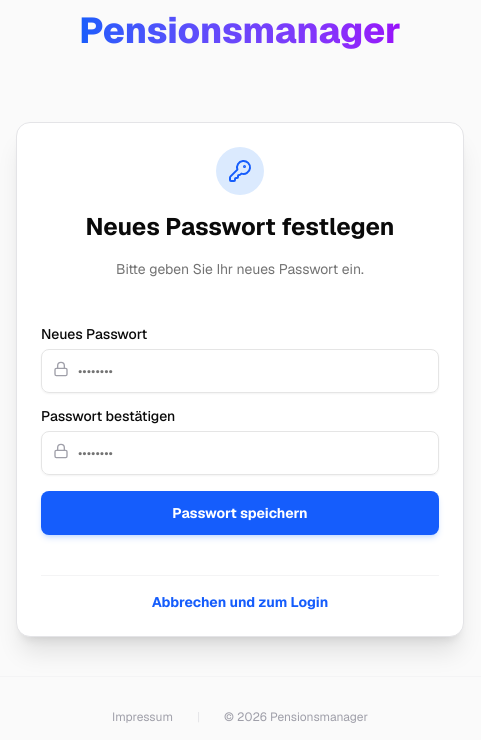
it: ResetPasswordPage › shows error if password is too short
The image size is (481, 740).
Type "12345" into the password field with placeholder "••••••••".
click(240, 371); type("12345")  # box x1=41 y1=349 x2=439 y2=393
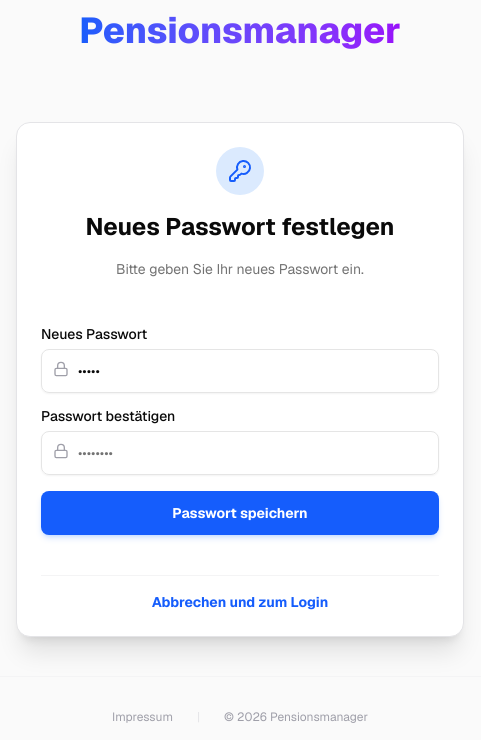
Type "12345" into the password field with placeholder "••••••••".
click(240, 453); type("12345")  # box x1=41 y1=431 x2=439 y2=475
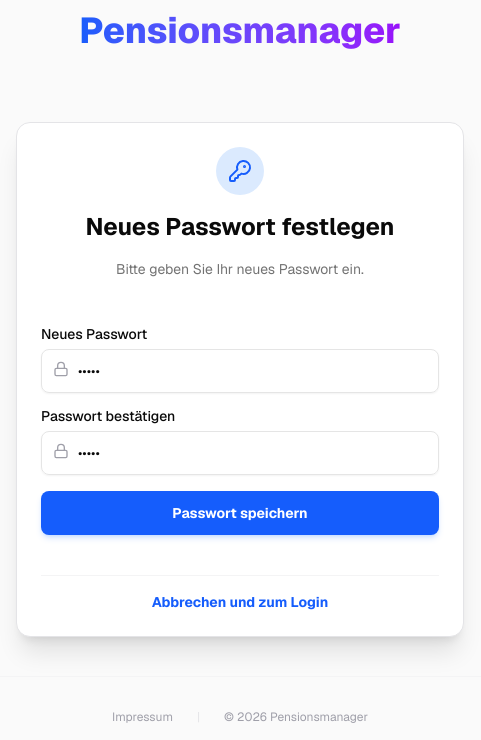
Click the button "Passwort speichern".
click(240, 513)  # box x1=41 y1=491 x2=439 y2=535
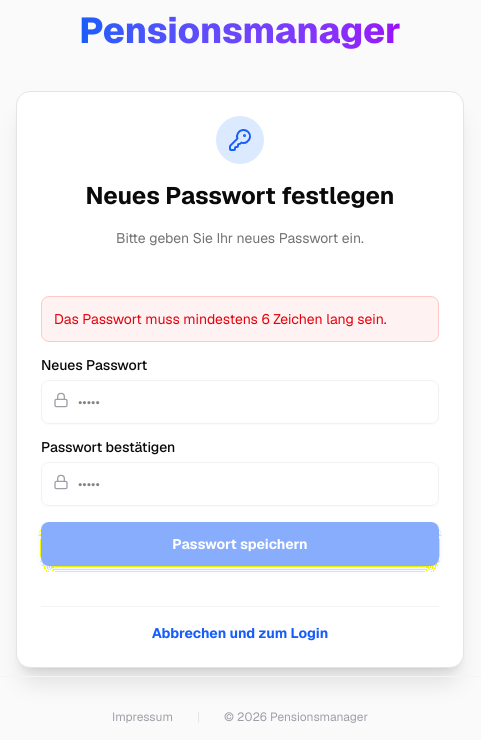
Expected: the text "Das Passwort muss mindestens 6 Zeichen lang sein." is shown, x1=41 y1=296 x2=439 y2=342
